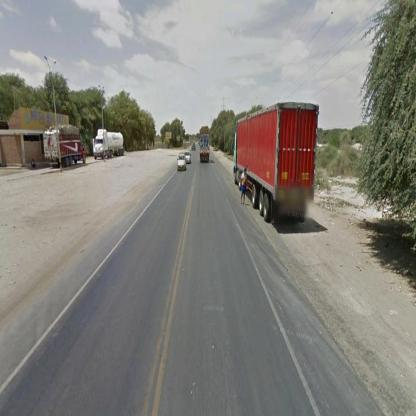Peaton: (241, 170, 249, 207)
Pista: (1, 150, 317, 415)
Vehiculo: (234, 102, 320, 222), (44, 125, 87, 169), (94, 129, 125, 161), (200, 127, 211, 164), (175, 155, 187, 173), (185, 152, 193, 165), (192, 144, 196, 152)
